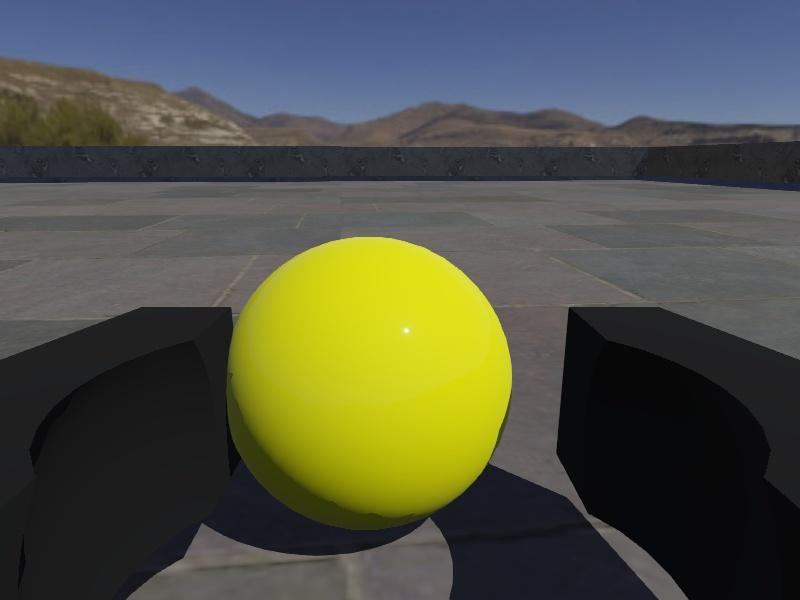yellow ball: (225, 235, 515, 532)
